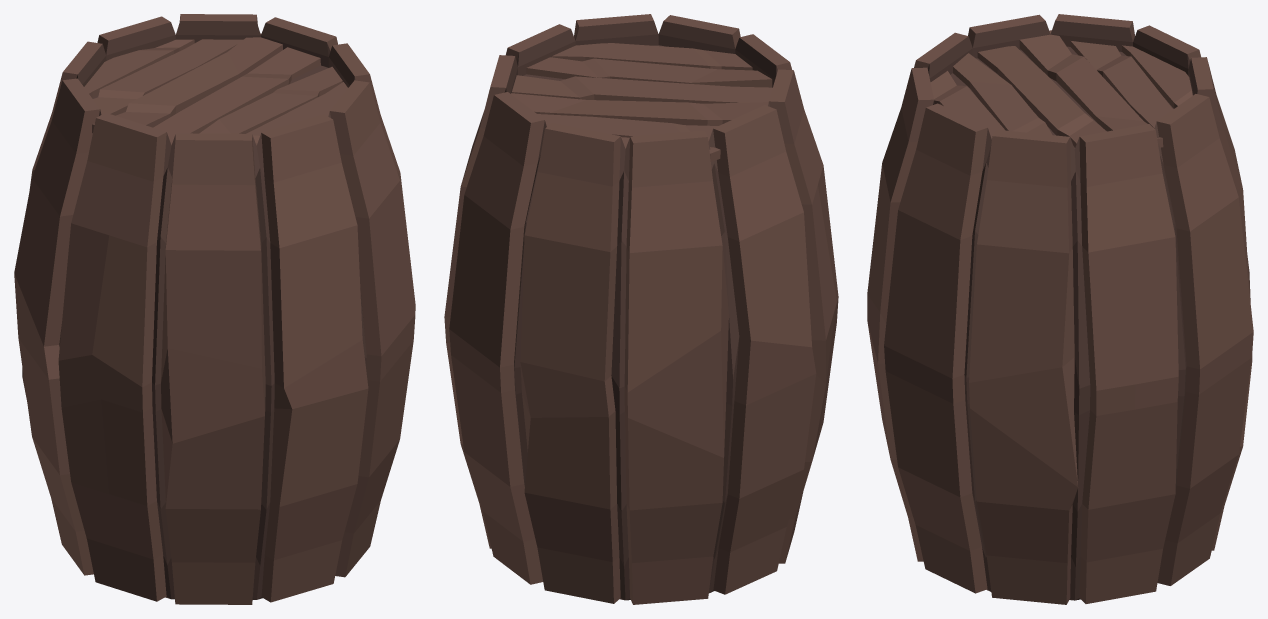
Rendered from Barrel2.glb.
3 renders of one model, left to right at view 1: azimuth 30°, elevation 25°; view 2: azimuth 150°, elevation 25°; view 3: azimuth 270°, elevation 25°, orthographic.
Parts seen in each view (by area): view 1: Barrel; view 2: Barrel; view 3: Barrel.
Part boxes in pixels (x1,y1,x2,y2): Barrel: [14, 14, 415, 604]; Barrel: [444, 14, 838, 604]; Barrel: [867, 14, 1253, 604].
Bounding box in the file's own units: 1.03 × 1.35 × 1.02.
